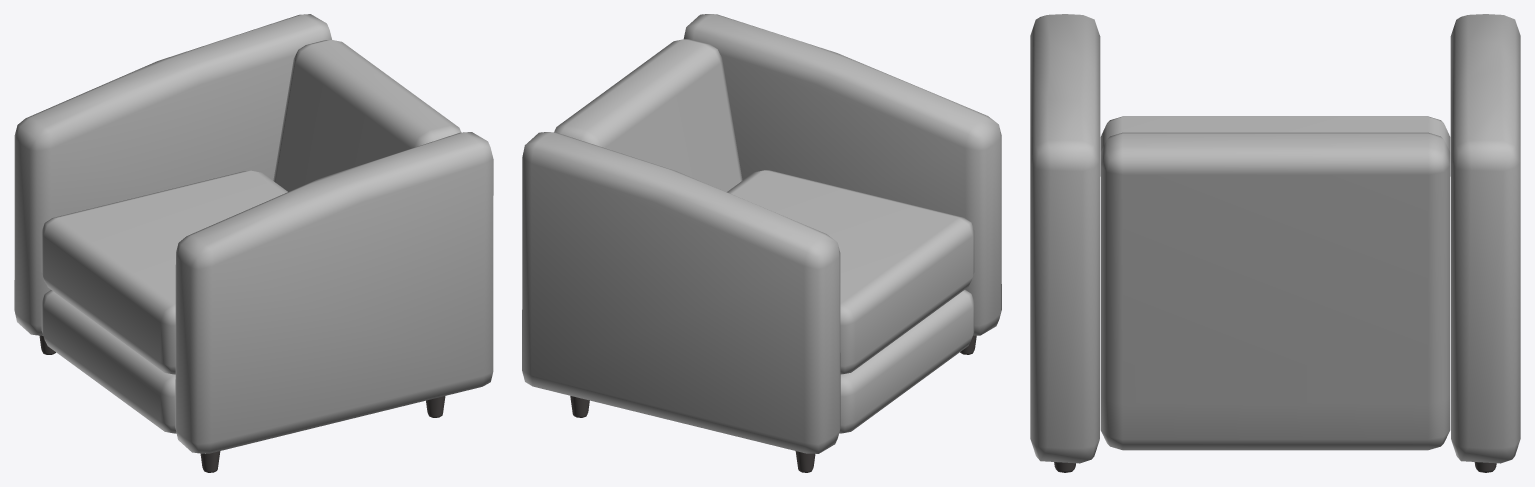
File: armchair_02_gray.fbx
The picture shows the model from 3 angles, left to right: view 1: azimuth 30°, elevation 25°; view 2: azimuth 150°, elevation 25°; view 3: azimuth 270°, elevation 25°; orthographic projection. The views are drawn at different scales.
Parts seen in each view (by area): view 1: armchair_02_gray; view 2: armchair_02_gray; view 3: armchair_02_gray.
Boxes of the visible parts, x1,y1,x2,y2 form: armchair_02_gray: (14, 14, 493, 472); armchair_02_gray: (522, 14, 1001, 472); armchair_02_gray: (1030, 14, 1520, 472).
Size of the model in its own units: 93.54 by 79.46 by 100.
2 materials, 2 textured.
